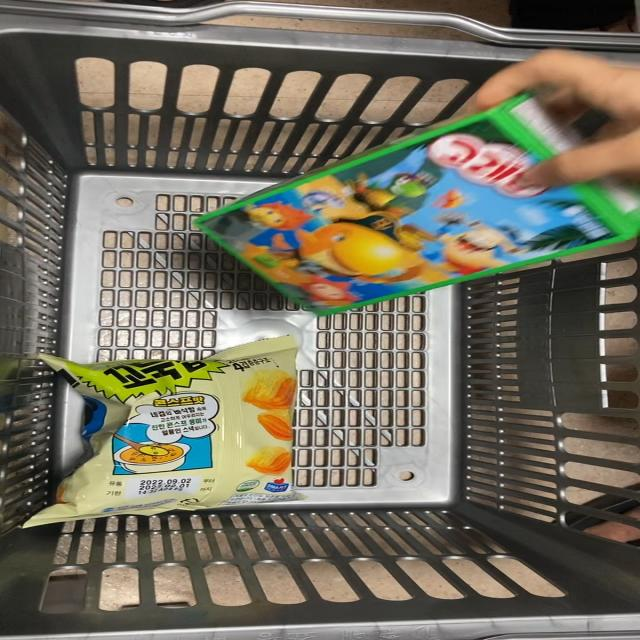ggobukchip: (69, 340, 332, 523)
goraebob: (179, 92, 635, 308)
